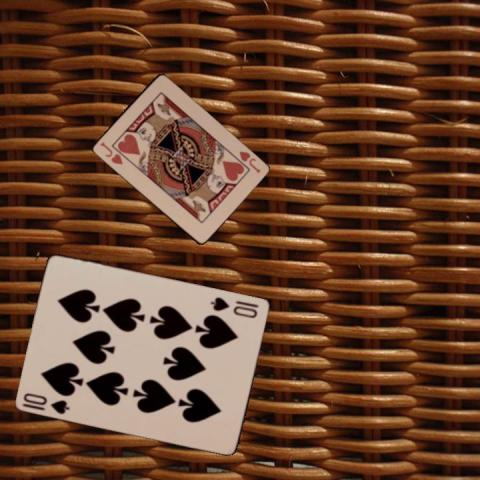10s: (209, 294, 259, 320), (21, 390, 71, 416)
Jh: (97, 139, 124, 166), (235, 148, 262, 175)
